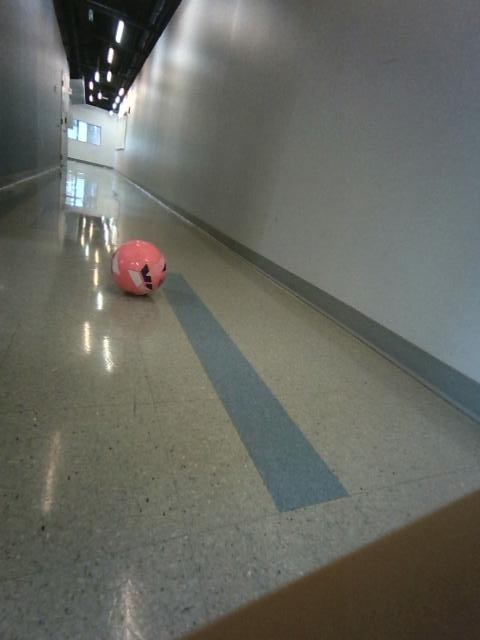ball: (112, 240, 166, 294)
